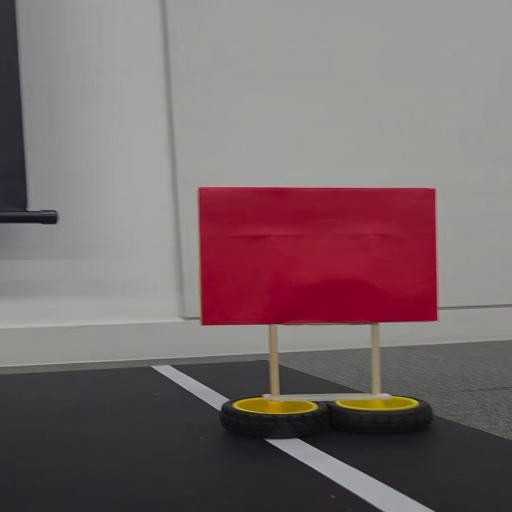Sign_A: (191, 179, 447, 442)
